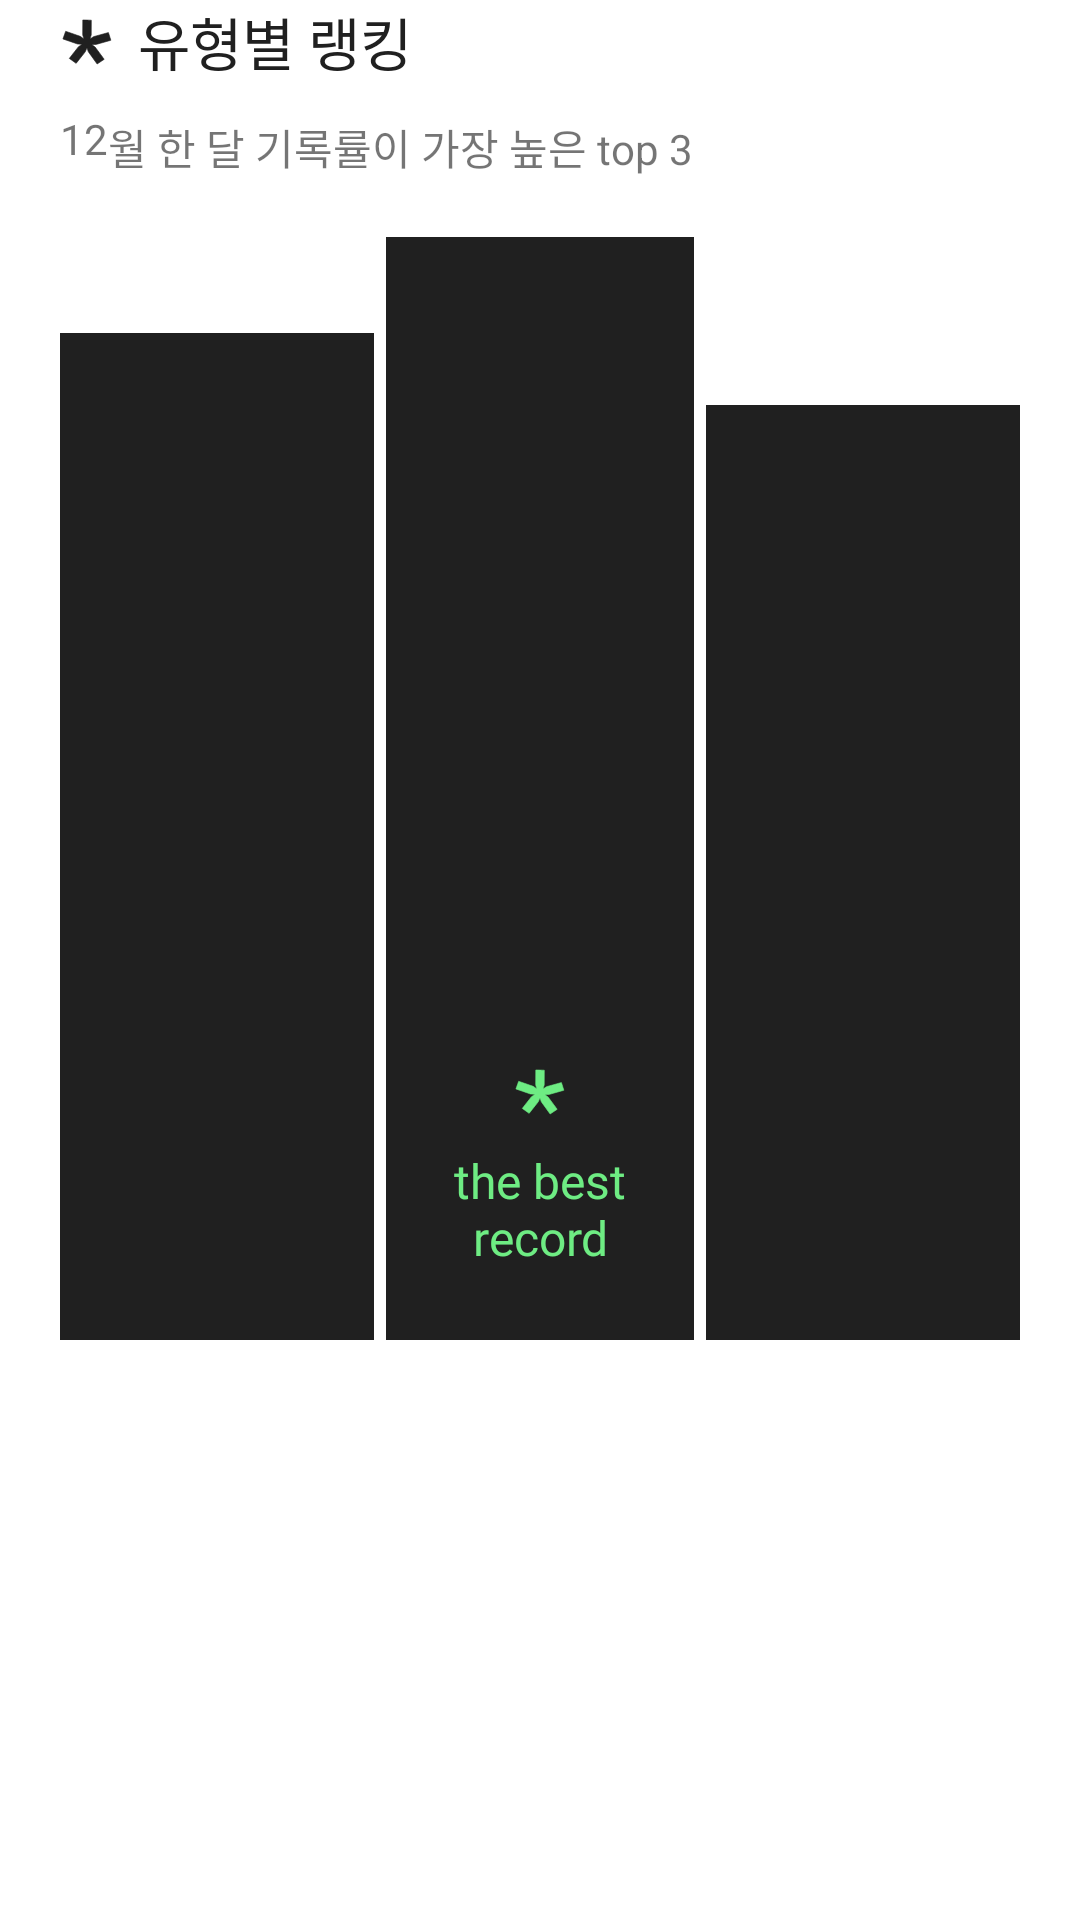

Named icons in this screenshot (1080w x 1920h) and their bounding boxes, (x1, y1, x2, y2):
star: (62, 19, 111, 65), (515, 1069, 564, 1115)
